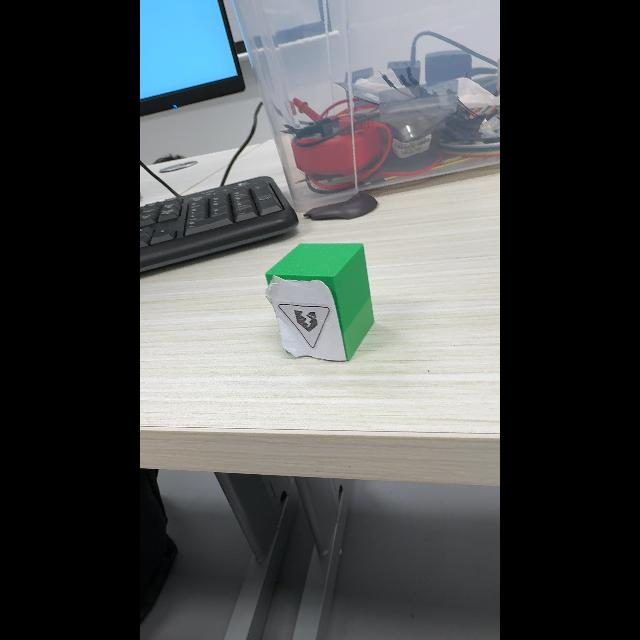Earthquake: (277, 303, 330, 348)
